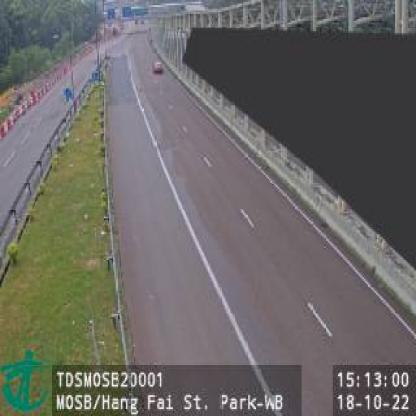Car: (151, 59, 164, 76)
